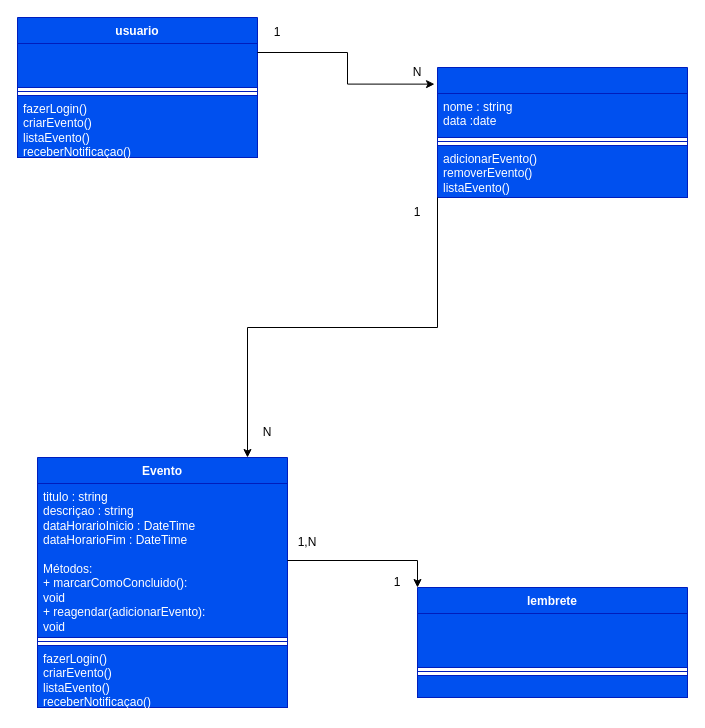
The diagram is 705 pixels wide and 728 high, and some of its shapes have lost their labels. Each missing label, with the box of its shape:
agenda: (436, 66, 688, 198)
Data : date horario : DateTime mensagem : string: (416, 612, 688, 668)
enviarNotificaçao(): (416, 674, 688, 698)
nome : string email : string: (16, 42, 258, 88)
